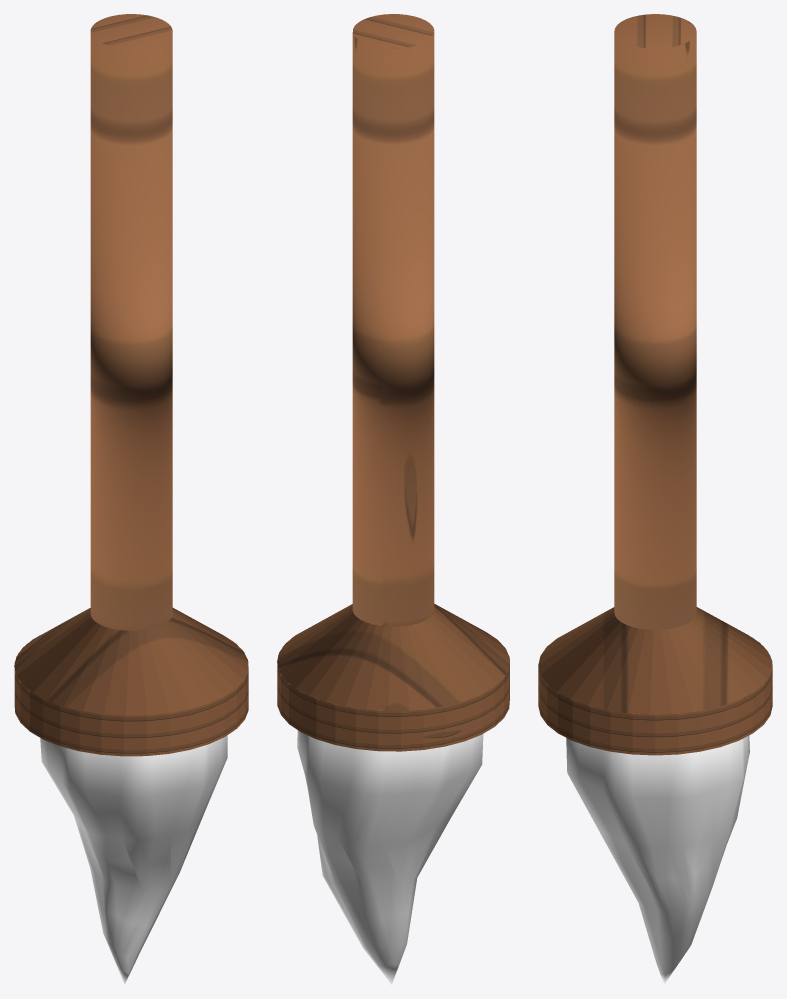
The model's file is item-paint.glb.
3 views of the same model, side by side, from view 1: azimuth 30°, elevation 25°; view 2: azimuth 150°, elevation 25°; view 3: azimuth 270°, elevation 25° (orthographic).
Bounding box in the file's own units: 2 × 8.99 × 2.
Materials: 2 (1 with a texture image).
